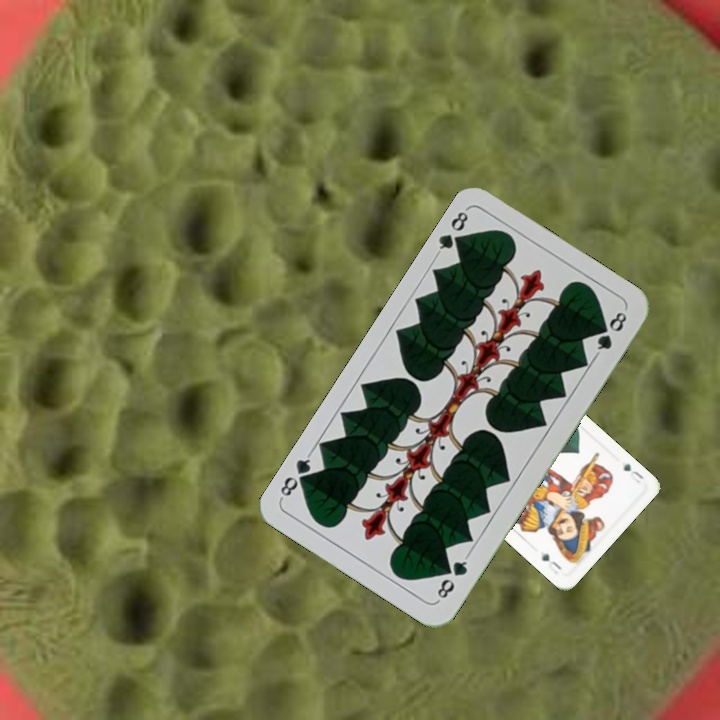G8: (432, 205, 471, 258), (433, 551, 471, 604)
GU: (619, 459, 646, 486)
